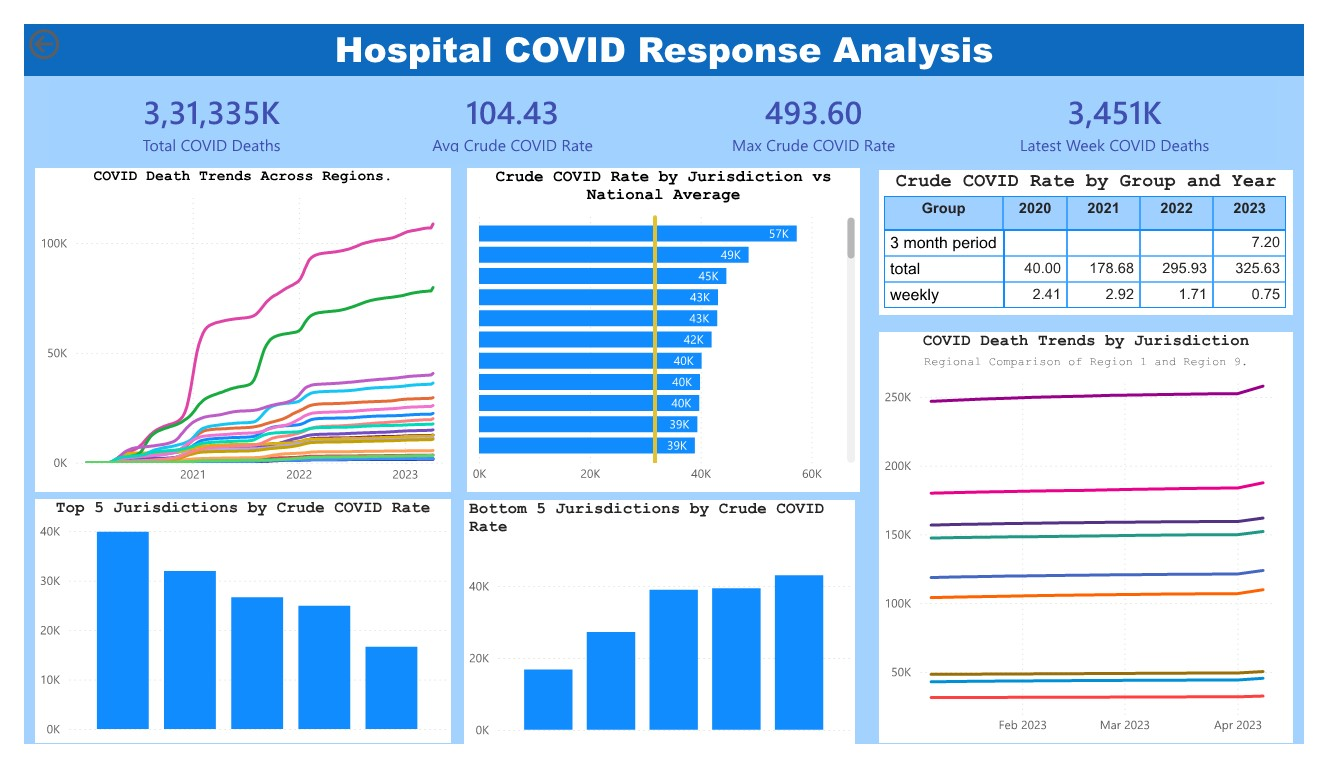

The dashboard page shown, as its layout file describes it:
{"tool":"powerbi","page":{"name":"DASHBOARD","canvas":[1280,720],"ordinal":5},"visuals":[{"type":"lineChart","title":"COVID Death Trends Across Regions.","fields":{"Y":["Sum(Covid_Data_Visualization_Project.COVID_deaths)"],"Series":["Covid_Data_Visualization_Project.Jurisdiction_Residence"],"Category":["Covid_Data_Visualization_Project.data_period_end"]},"box":[11,144.2,416,324],"z":0},{"type":"lineChart","title":"COVID Death Trends by Jurisdiction","fields":{"Y":["Sum(Covid_Data_Visualization_Project.COVID_deaths)"],"Category":["Covid_Data_Visualization_Project.data_period_end"],"Series":["Covid_Data_Visualization_Project.Jurisdiction_Residence"]},"box":[855.4,307.6,413.3,411.9],"z":1000},{"type":"clusteredColumnChart","title":"Top 5 Jurisdictions by Crude COVID Rate","fields":{"Category":["Covid_Data_Visualization_Project.Jurisdiction_Residence"],"Y":["Sum(Covid_Data_Visualization_Project.crude_COVID_rate)"]},"box":[11,475.1,416,244.4],"z":2000},{"type":"clusteredColumnChart","title":"Bottom 5 Jurisdictions by Crude COVID Rate","fields":{"Category":["Covid_Data_Visualization_Project.Jurisdiction_Residence"],"Y":["Sum(Covid_Data_Visualization_Project.crude_COVID_rate)"]},"box":[440,475.7,391.4,244.3],"z":3000},{"type":"cardVisual","fields":{"Data":["Covid_Data_Visualization_Project.Total COVID Deaths","Covid_Data_Visualization_Project.Avg Crude COVID Rate","Covid_Data_Visualization_Project.Max Crude COVID Rate","Covid_Data_Visualization_Project.Latest Week COVID Deaths"]},"box":[0,51.7,1280,93.3],"z":4000},{"type":"textbox","title":"Hospital COVID Response Analysis","box":[0,0,1280,52],"z":5000},{"type":"actionButton","box":[0,0,100,40],"z":6000},{"type":"clusteredBarChart","title":"Crude COVID Rate by Jurisdiction vs National Average","fields":{"Category":["Covid_Data_Visualization_Project.Jurisdiction_Residence"],"Y":["Sum(Covid_Data_Visualization_Project.crude_COVID_rate)"]},"box":[443.5,144.2,392.7,324],"z":7000},{"type":"pivotTable","title":"Crude COVID Rate by Group and Year","fields":{"Rows":["Covid_Data_Visualization_Project.Group"],"Columns":["Covid_Data_Visualization_Project.data_period_end.Variation.Date Hierarchy.Year"],"Values":["Covid_Data_Visualization_Project.Avg Crude COVID Rate"]},"box":[855.4,145.5,413.3,145.5],"z":8000}]}

Visuals, with their boxes in screenshot pixels (x1, y1, x2, y2), scaled from the page's 1280x720 canvas onto the 1328x768 screenshot:
"COVID Death Trends Across Regions." lineChart: {"x1": 11, "y1": 154, "x2": 443, "y2": 499}
"COVID Death Trends by Jurisdiction" lineChart: {"x1": 887, "y1": 328, "x2": 1316, "y2": 767}
"Top 5 Jurisdictions by Crude COVID Rate" clusteredColumnChart: {"x1": 11, "y1": 507, "x2": 443, "y2": 767}
"Bottom 5 Jurisdictions by Crude COVID Rate" clusteredColumnChart: {"x1": 457, "y1": 507, "x2": 863, "y2": 767}
cardVisual - Covid_Data_Visualization_Project.Total COVID Deaths x Covid_Data_Visualization_Project.Avg Crude COVID Rate: {"x1": 0, "y1": 55, "x2": 1327, "y2": 155}
"Hospital COVID Response Analysis" textbox: {"x1": 0, "y1": 0, "x2": 1327, "y2": 55}
actionButton: {"x1": 0, "y1": 0, "x2": 104, "y2": 43}
"Crude COVID Rate by Jurisdiction vs National Average" clusteredBarChart: {"x1": 460, "y1": 154, "x2": 868, "y2": 499}
"Crude COVID Rate by Group and Year" pivotTable: {"x1": 887, "y1": 155, "x2": 1316, "y2": 310}
